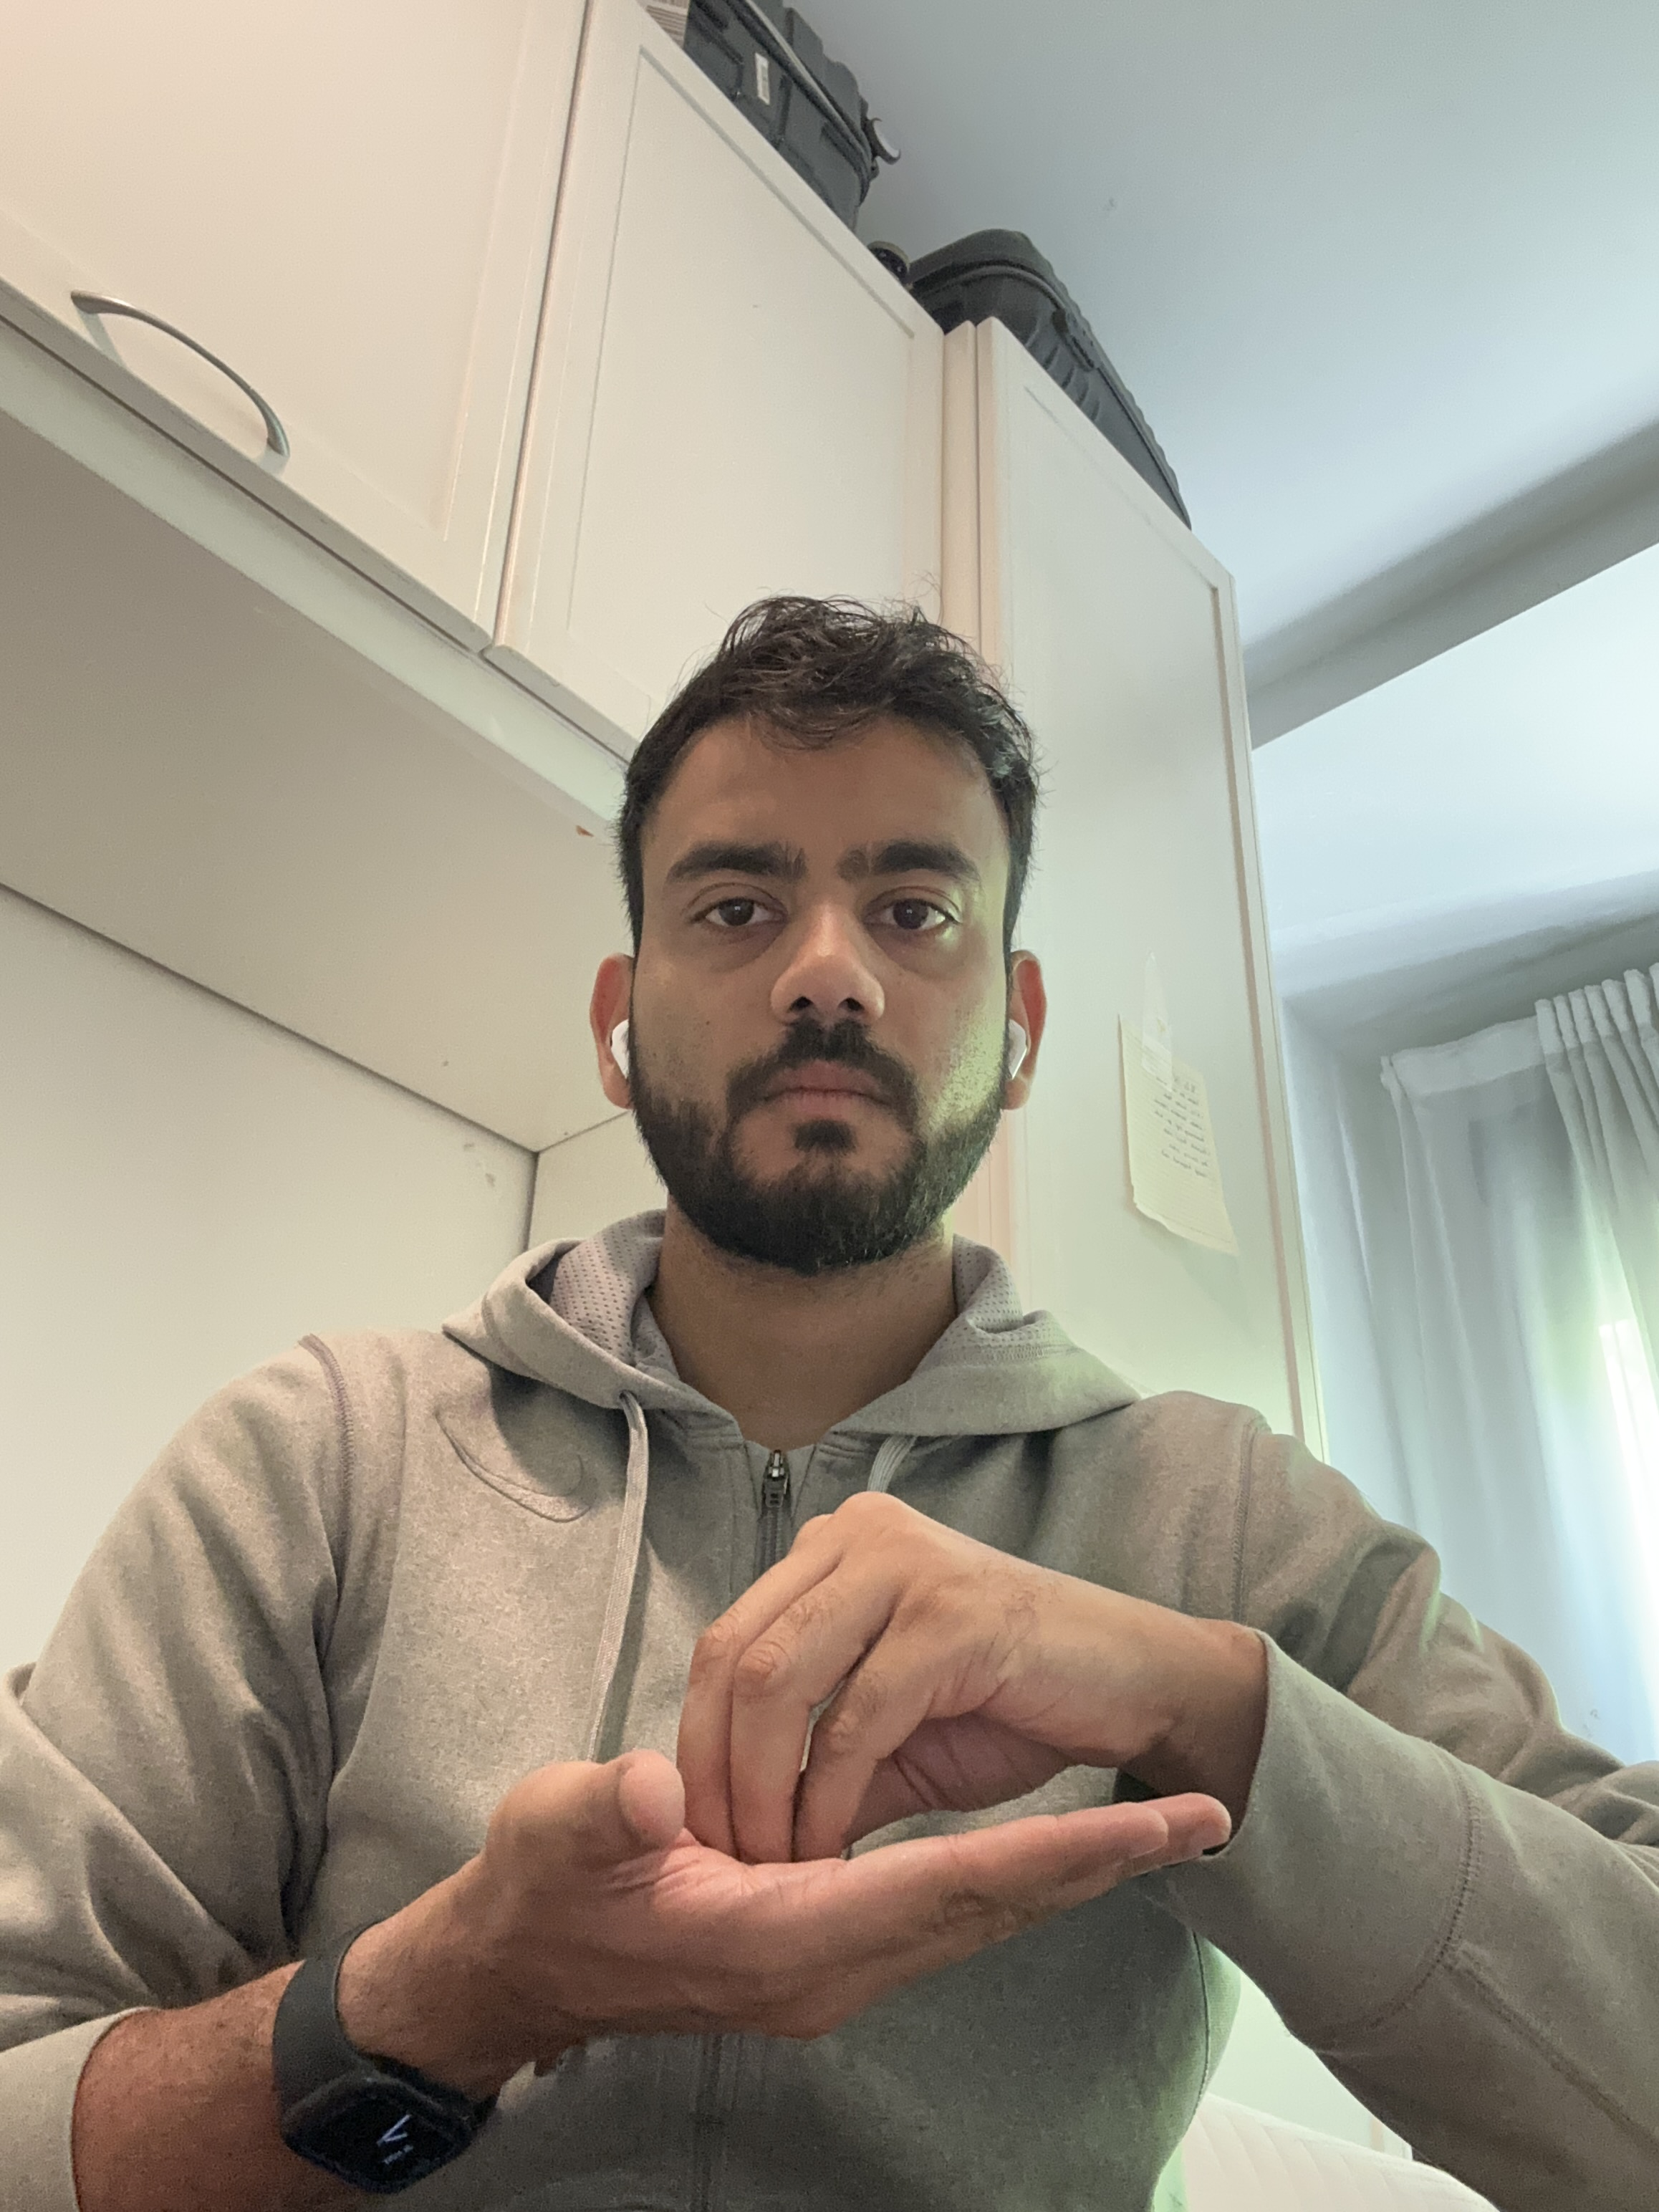learning: (7, 587, 1650, 2202)
